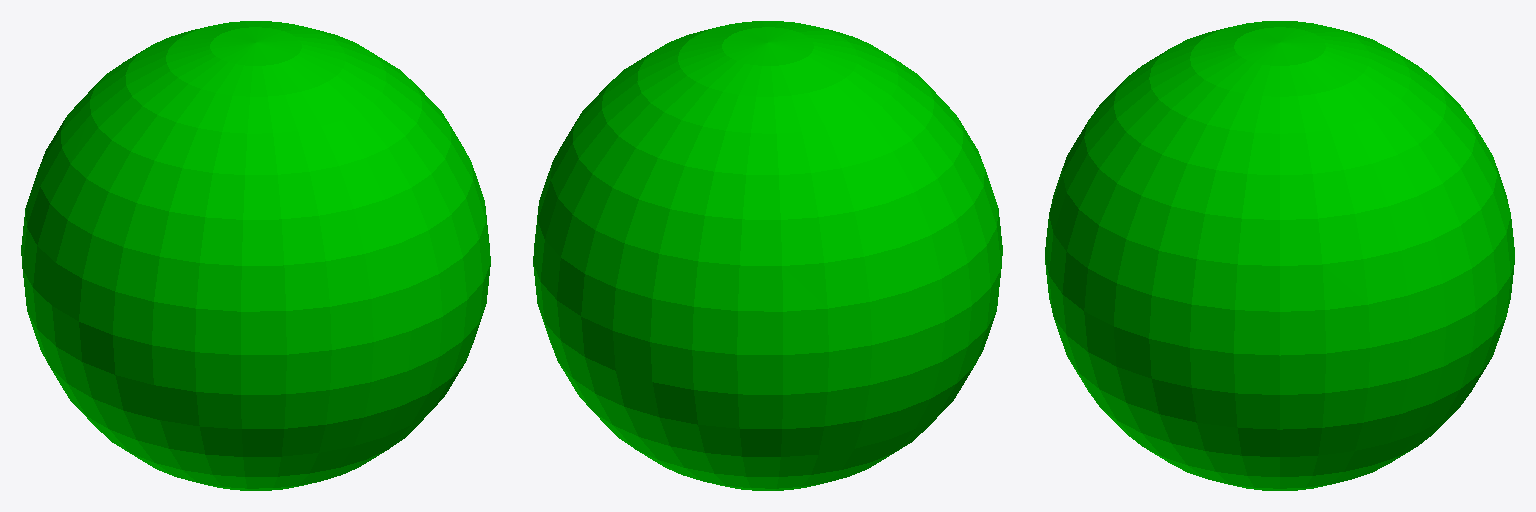
The model's file is Speaker.004.obj.
3 views of the same model, side by side, from view 1: azimuth 30°, elevation 25°; view 2: azimuth 150°, elevation 25°; view 3: azimuth 270°, elevation 25° (orthographic).
Visible parts, largest first — view 1: Speaker.004_Sphere.003; view 2: Speaker.004_Sphere.003; view 3: Speaker.004_Sphere.003.
Part boxes in pixels (x1,y1,x2,y2): Speaker.004_Sphere.003: (21, 21, 490, 490); Speaker.004_Sphere.003: (533, 21, 1002, 490); Speaker.004_Sphere.003: (1045, 21, 1514, 490).
Bounding box in the file's own units: 0.0534 × 0.0534 × 0.0534.